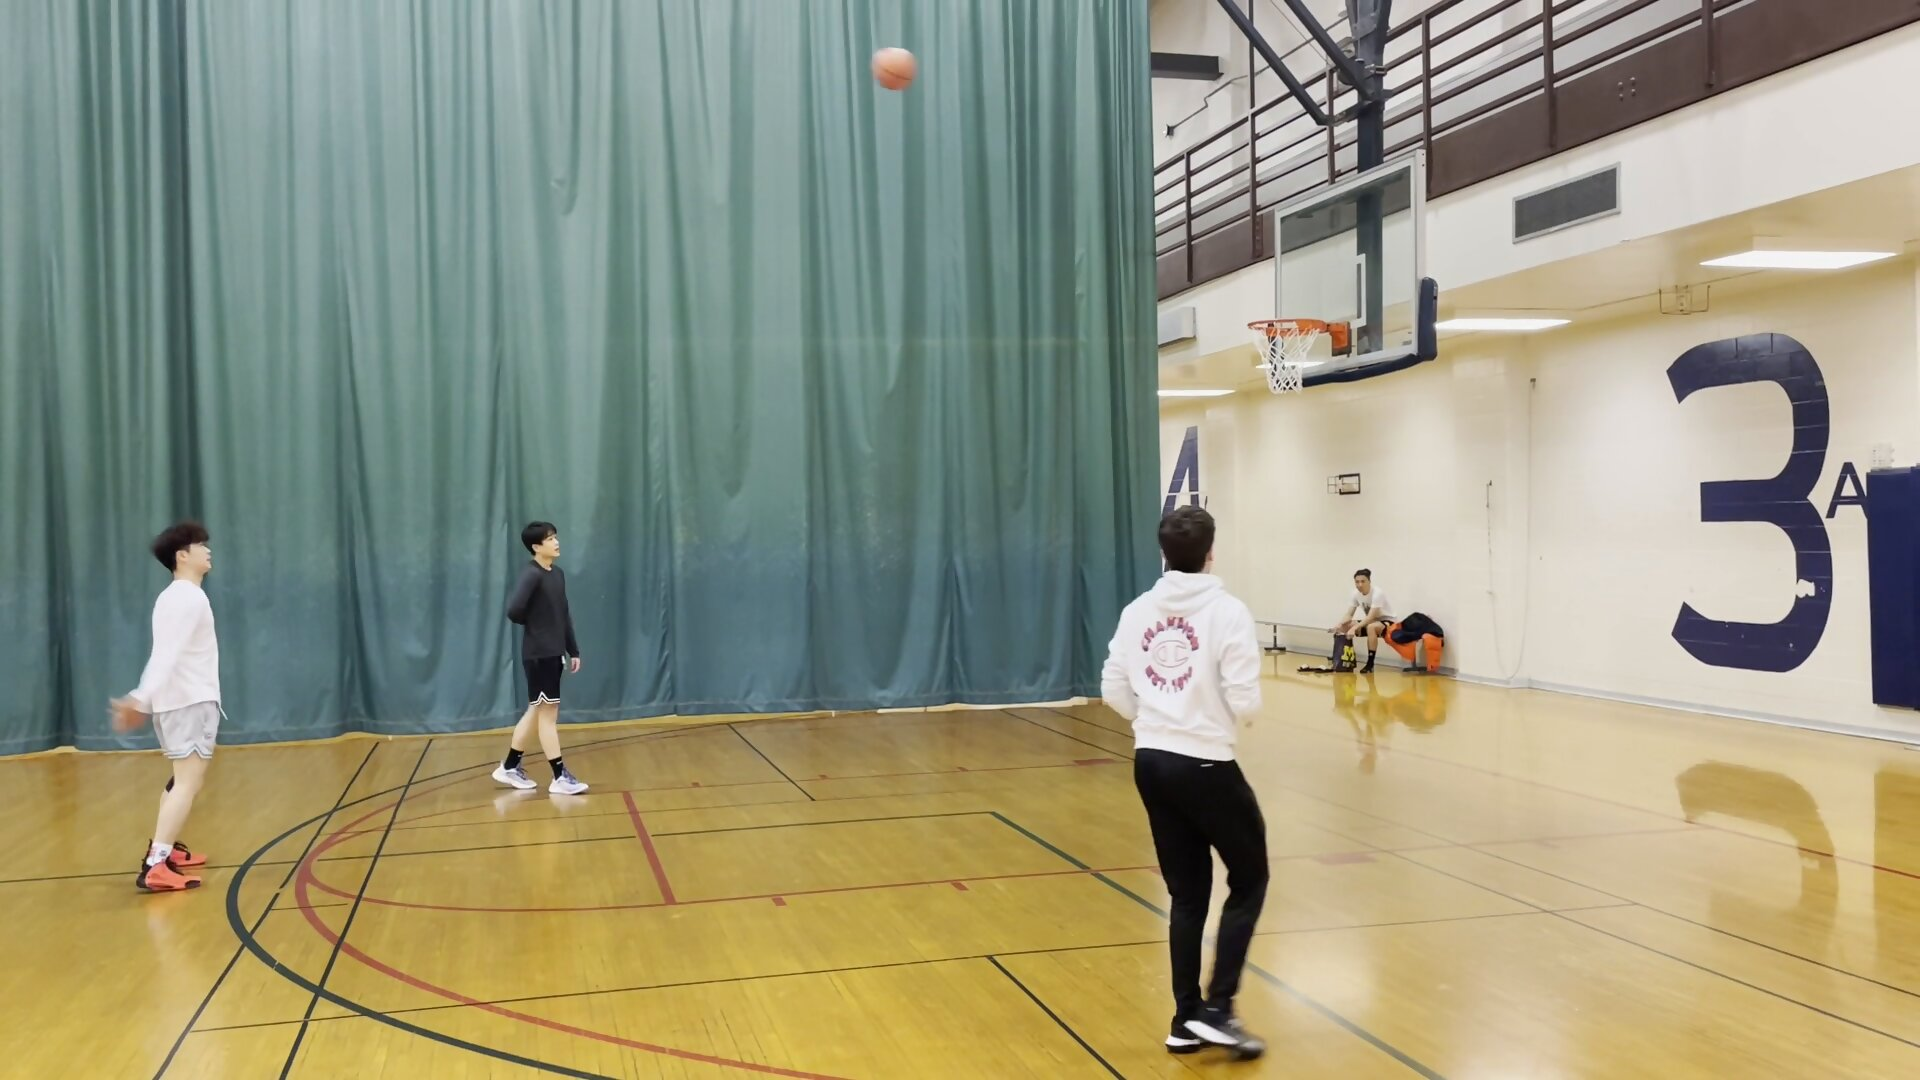ball: (868, 45, 921, 93)
net: (1251, 364, 1321, 400)
player: (1086, 502, 1288, 1069), (117, 520, 235, 898), (484, 520, 602, 800), (1338, 567, 1393, 676)
rim: (1239, 315, 1335, 340)
